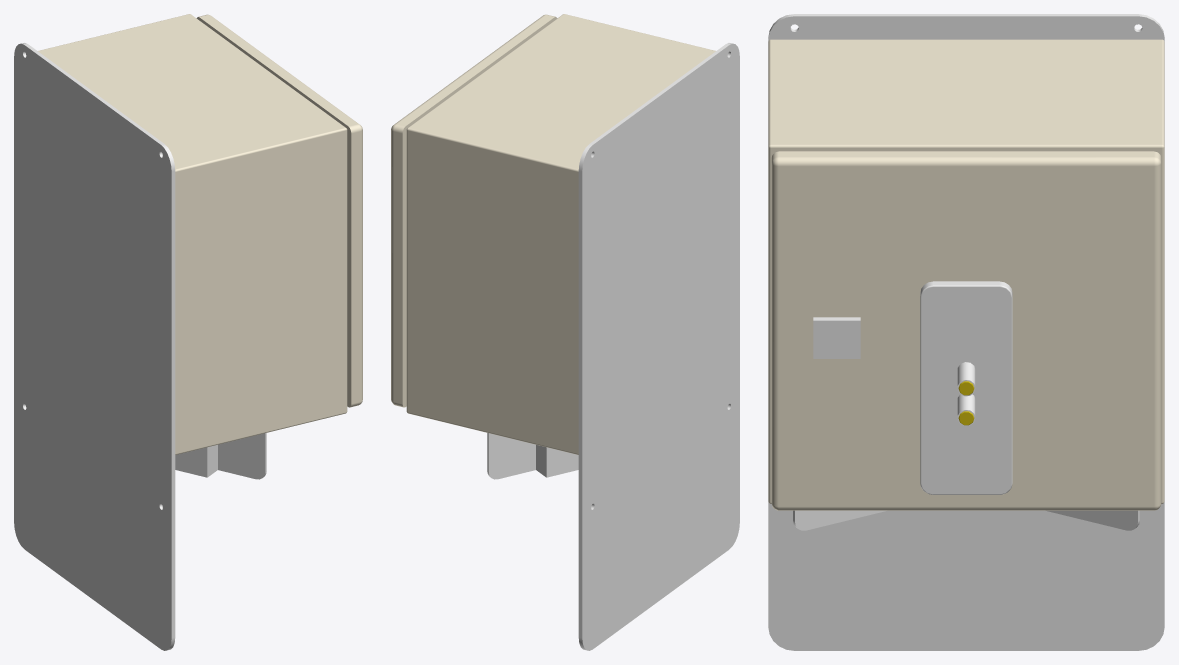
The model's file is d1_back1.dae.
3 renders of one model, left to right at view 1: azimuth 30°, elevation 25°; view 2: azimuth 150°, elevation 25°; view 3: azimuth 270°, elevation 25°, orthographic. The views are drawn at different scales.
Parts seen in each view (by area): view 1: MPO-700 V2.4.3 Ladestation; view 2: MPO-700 V2.4.3 Ladestation; view 3: MPO-700 V2.4.3 Ladestation.
Part boxes in pixels (x1,y1,x2,y2): MPO-700 V2.4.3 Ladestation: (14,14,362,650); MPO-700 V2.4.3 Ladestation: (391,14,739,650); MPO-700 V2.4.3 Ladestation: (768,14,1164,650).
Size of the model in its own units: 0.255 by 0.3 by 0.53.
